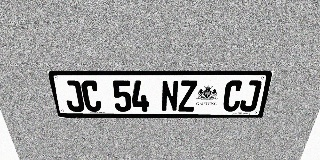4: (131, 80, 149, 112)
5: (112, 80, 132, 112)
C: (80, 80, 102, 112), (222, 80, 244, 112)
J: (62, 80, 85, 112), (239, 80, 262, 112)
N: (161, 80, 179, 112)
Z: (178, 80, 197, 112)
